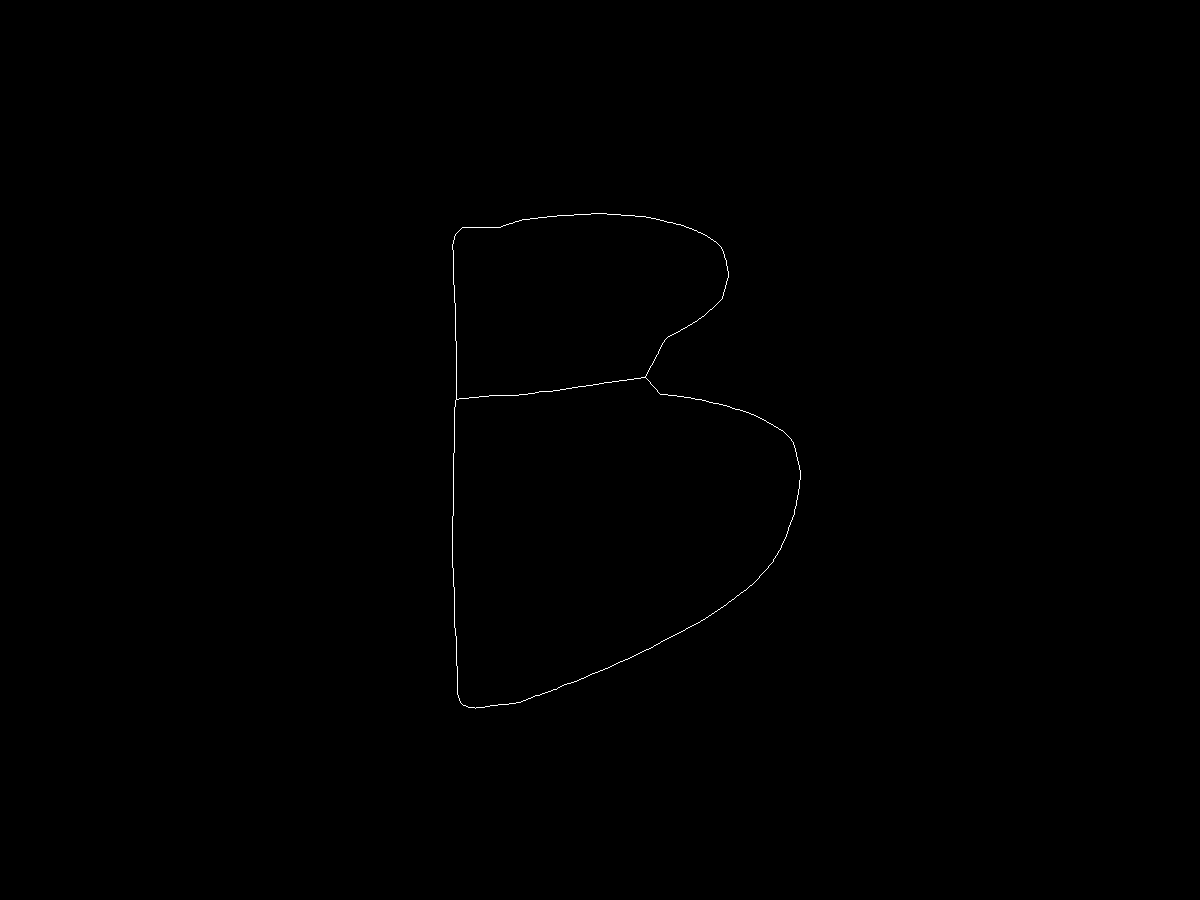dian1: (447, 221, 469, 243)
dian2: (441, 393, 466, 418)
dian3: (447, 691, 466, 710)
dian4: (637, 368, 652, 383)
